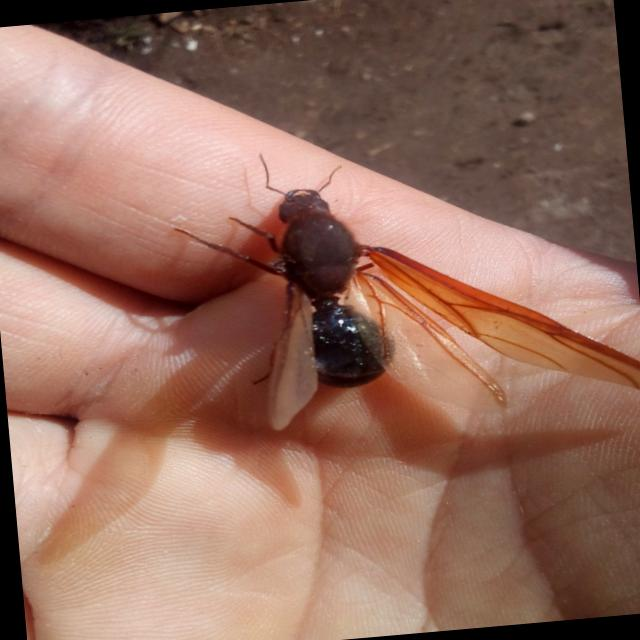Alive-Female-Alate: (167, 120, 640, 449)
